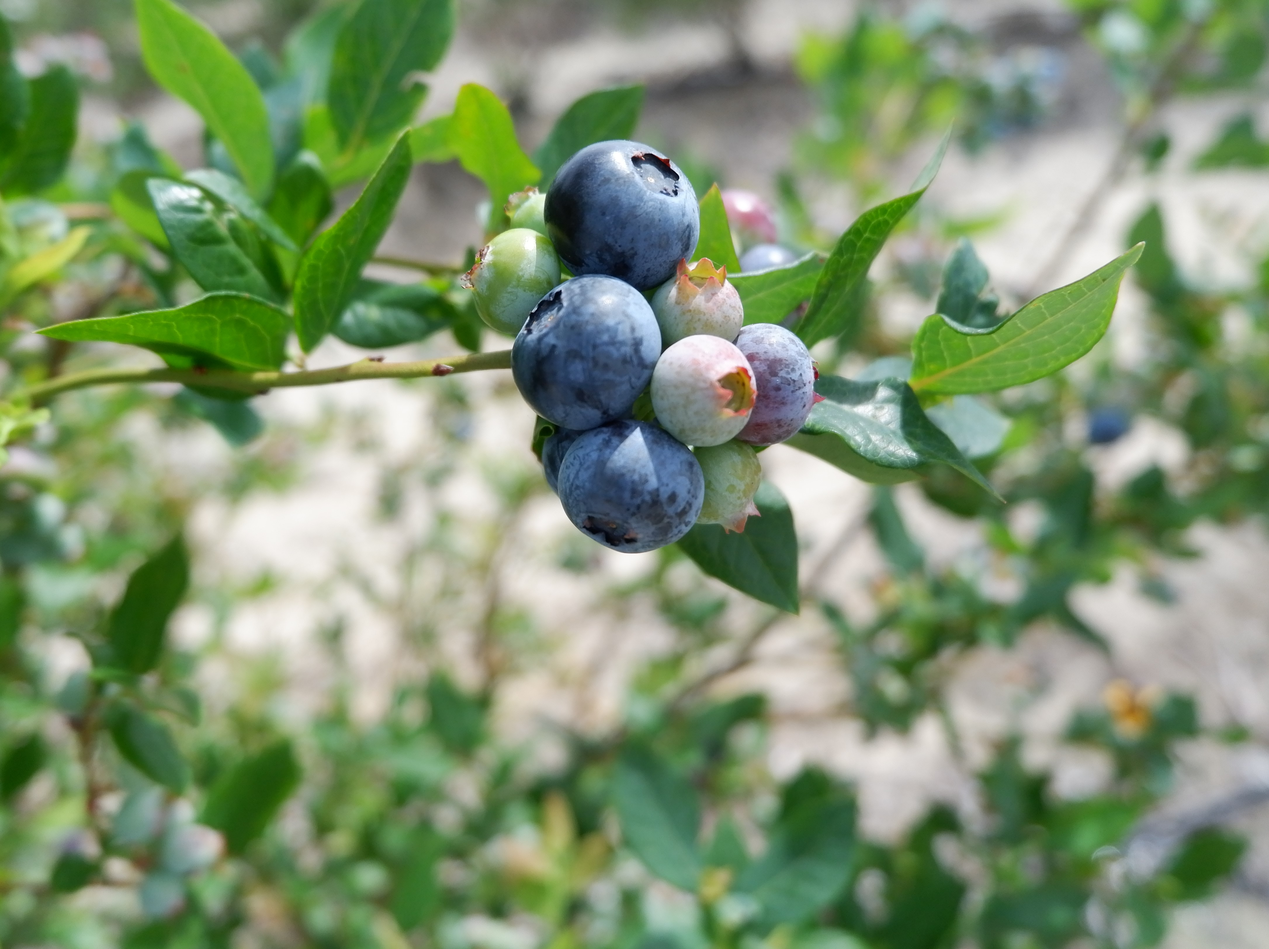Immature: (654, 338, 753, 445), (735, 327, 820, 443), (463, 229, 559, 329), (655, 260, 741, 343), (696, 440, 760, 529), (507, 188, 548, 233)
Mature: (547, 143, 696, 290), (514, 277, 660, 425), (557, 420, 701, 552), (545, 427, 569, 486)
